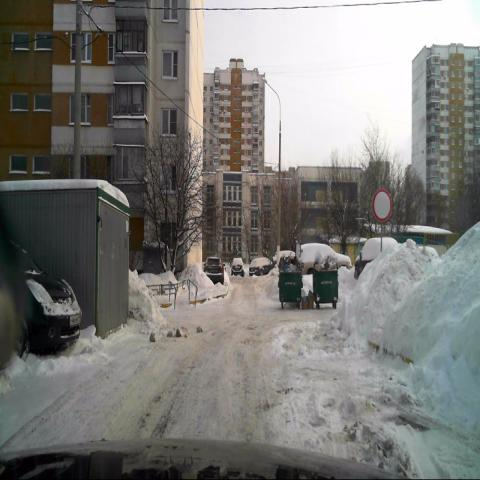3_2: (372, 187, 391, 223)
